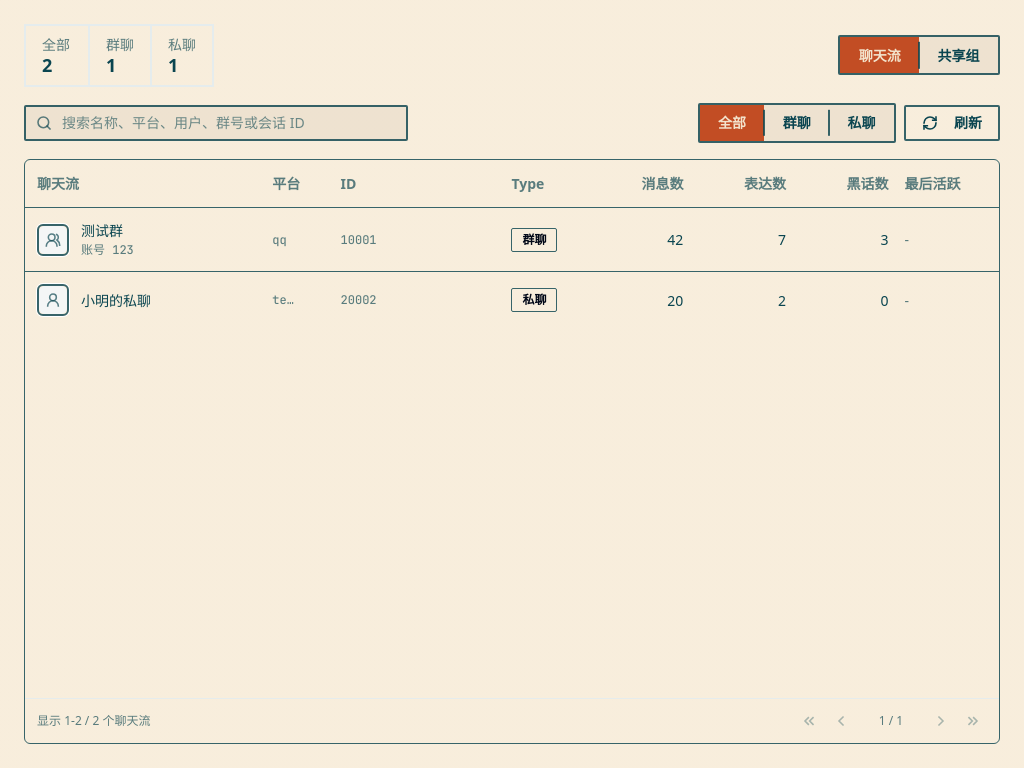
it: ChatManagementPage 详情空态与错误 › 默认策略加载中按钮禁用
Click the button with aria-label "查看 测试群 · 账号 123 详情" at (512, 240), box [25,208,999,272]
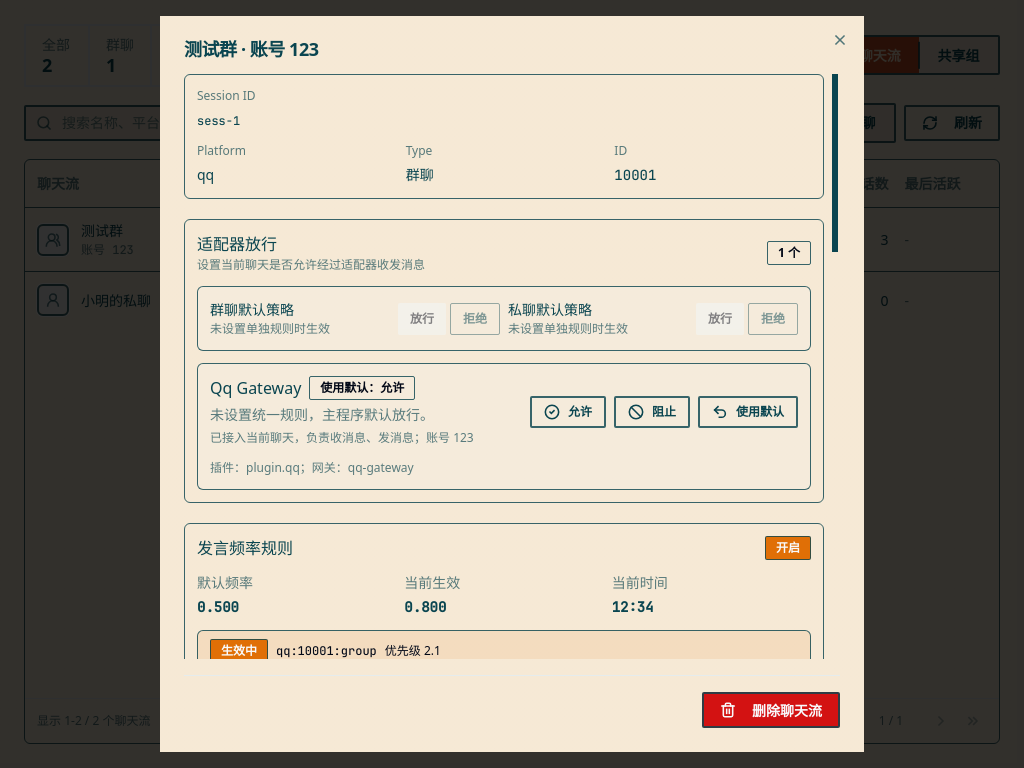
Now the text "Session ID" is shown, box [197,87,256,104]
Now the button "放行" in the row of "群聊默认策略" is disabled, box [398,302,446,334]
